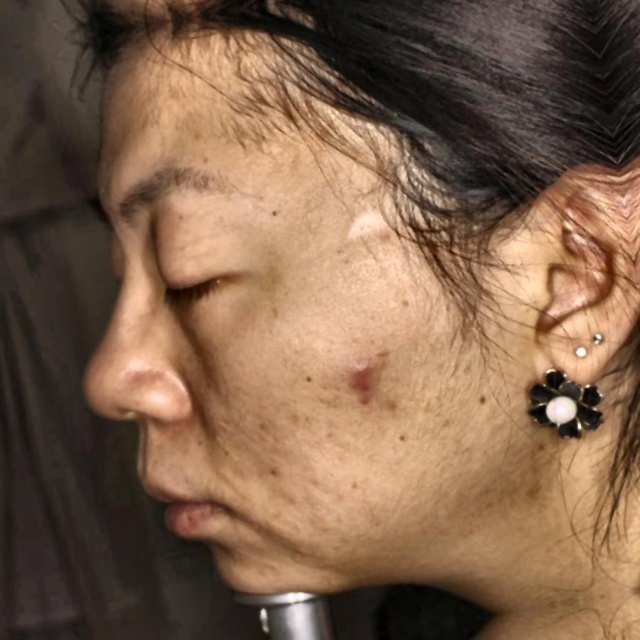comedone: (337, 356, 383, 403)
